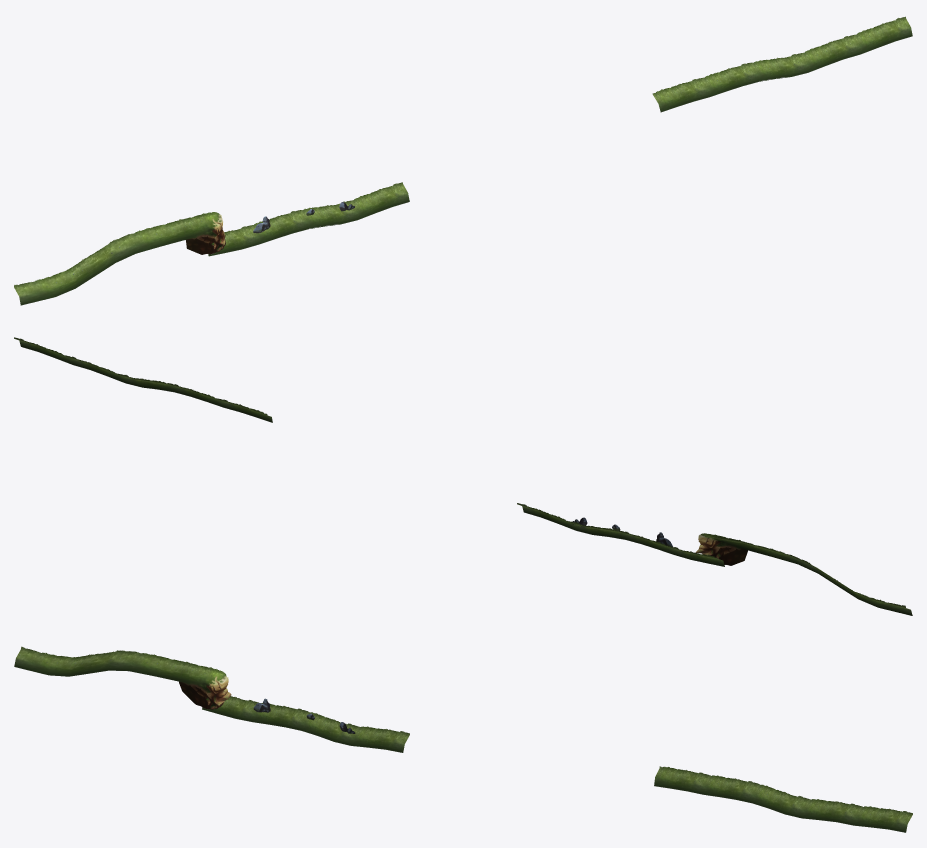
The model's file is Castle Tower_Grass Landscape.FBX.
The picture shows the model from 3 angles, top to bottom: view 1: azimuth 30°, elevation 25°; view 2: azimuth 150°, elevation 25°; view 3: azimuth 330°, elevation 25°; orthographic projection.
Visible parts, largest first — view 1: Grass Landscape; view 2: Grass Landscape; view 3: Grass Landscape.
Part boxes in pixels (x1,y1,x2,y2): Grass Landscape: (14, 16, 912, 305); Grass Landscape: (14, 337, 912, 615); Grass Landscape: (14, 646, 912, 832).
Bounding box in the file's own units: 16945 × 340 × 1259.
